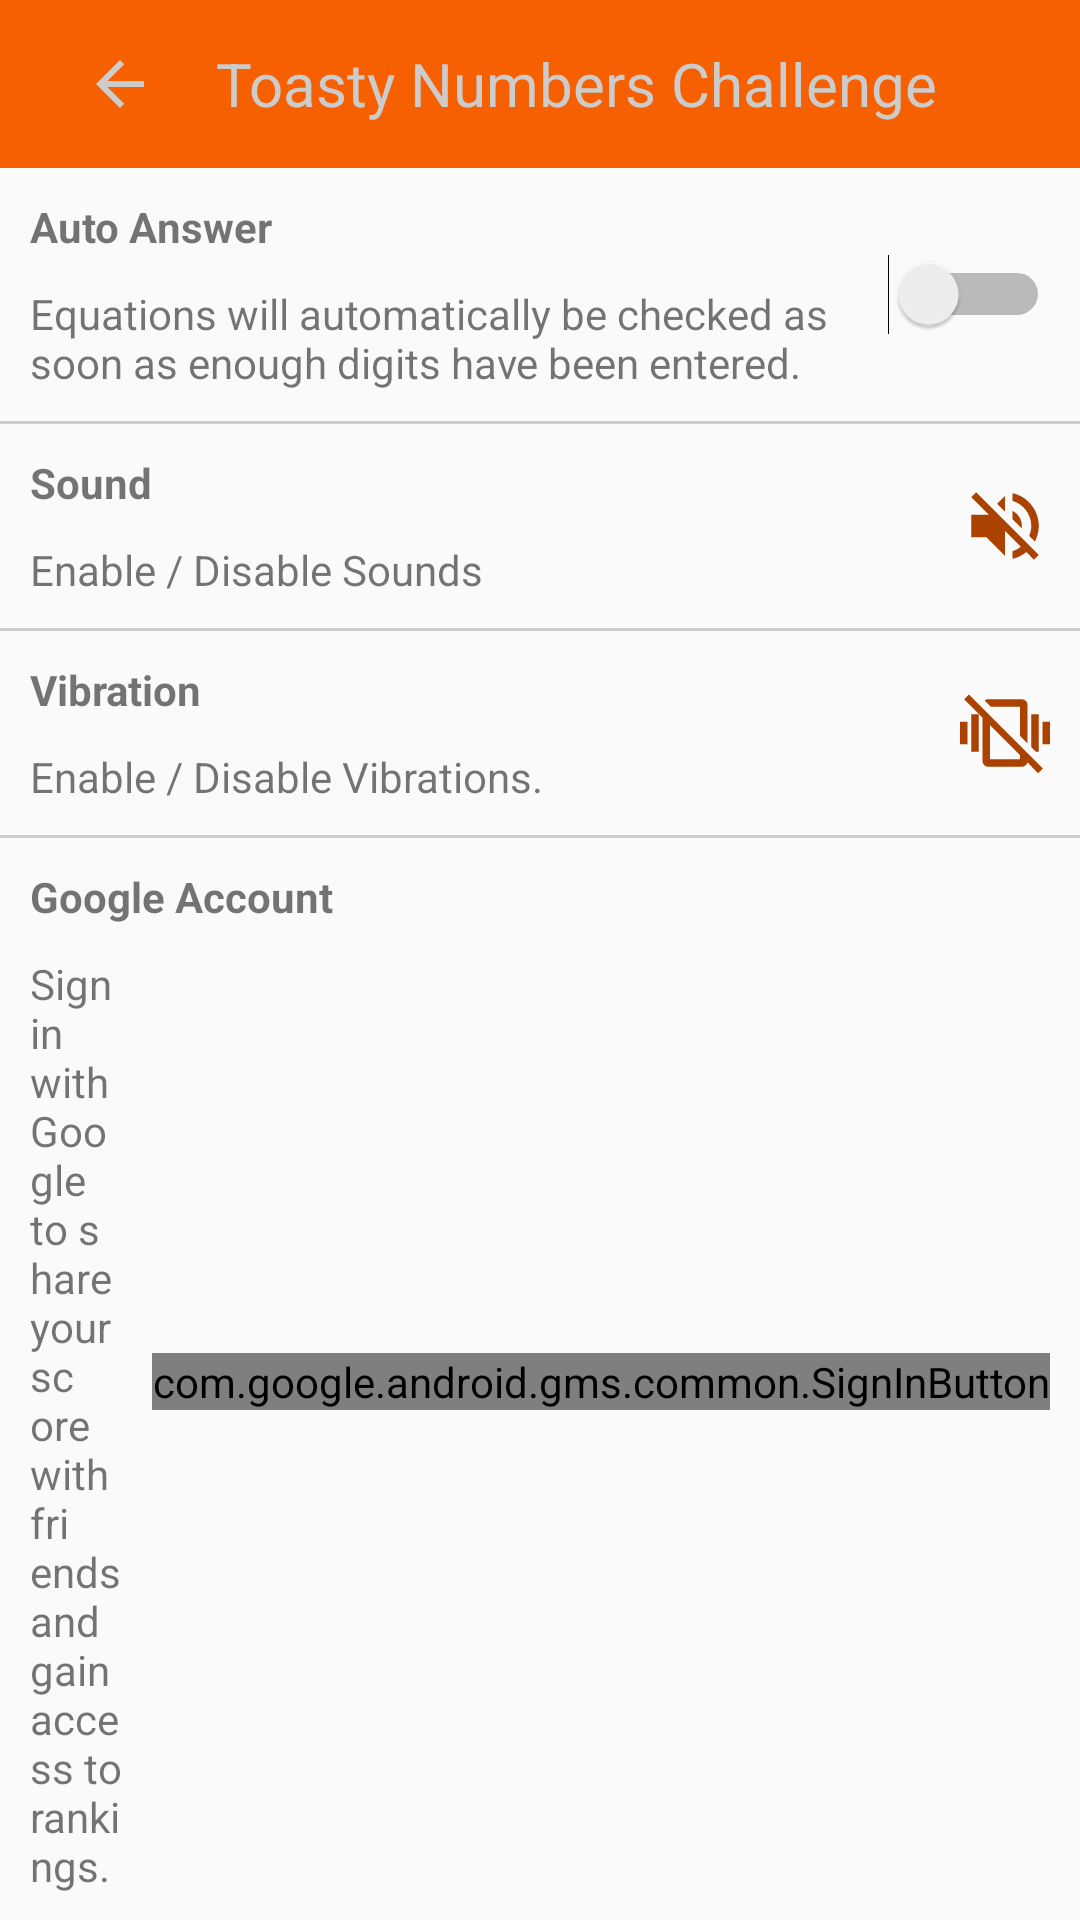

Point at icon controls on the screen. Image size 1080 × 1920, points as point (x, y).
back arrow: point (120, 84)
